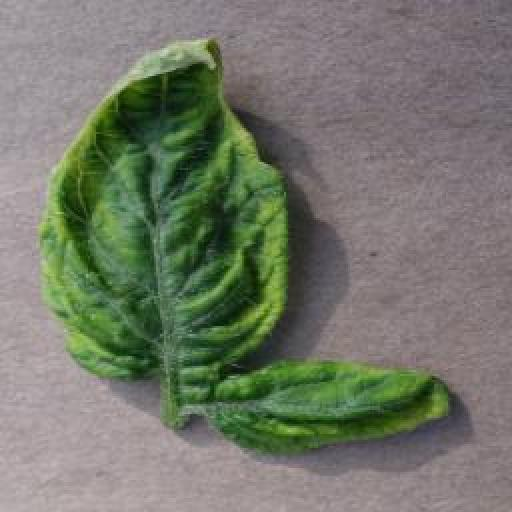disease_tomato: (36, 38, 288, 382), (215, 360, 453, 455)
